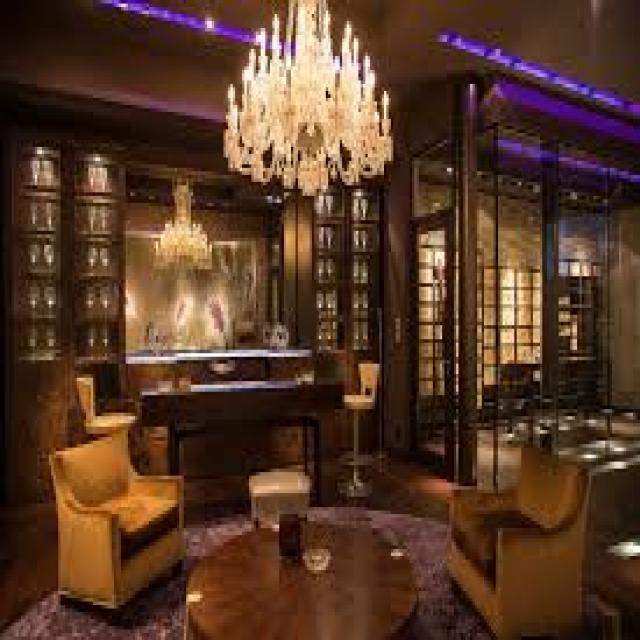Chair: (431, 427, 606, 632), (39, 432, 194, 615), (339, 356, 390, 494), (65, 365, 136, 435)
Lamp: (210, 0, 412, 194)
Table: (178, 503, 431, 640), (139, 366, 343, 514)
